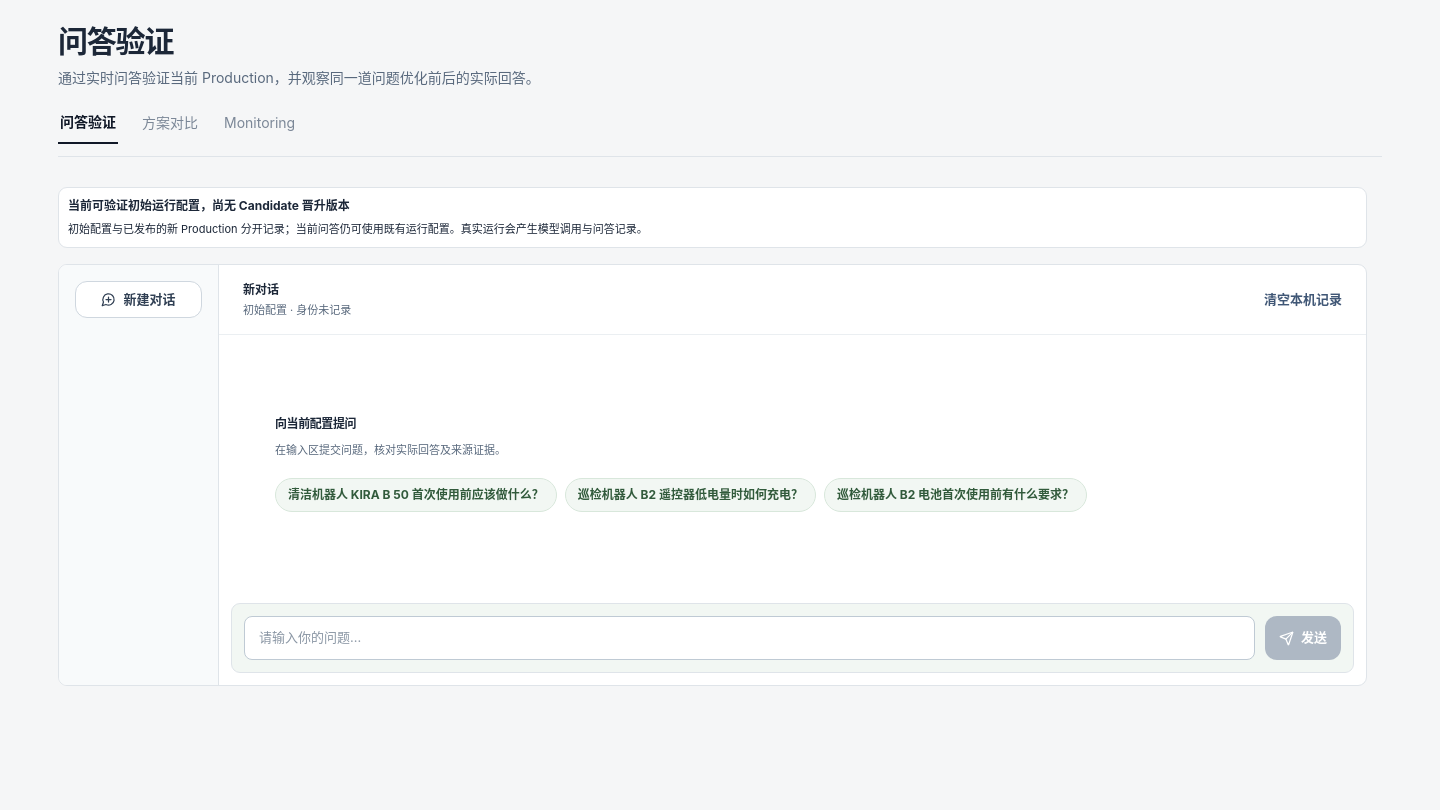
shows the real feedback chain with a compact empty state and no pretend monitoring rows
This screenshot has width=1440, height=810.
Click the button "Monitoring" at (260, 123), box [222,101,297,144]
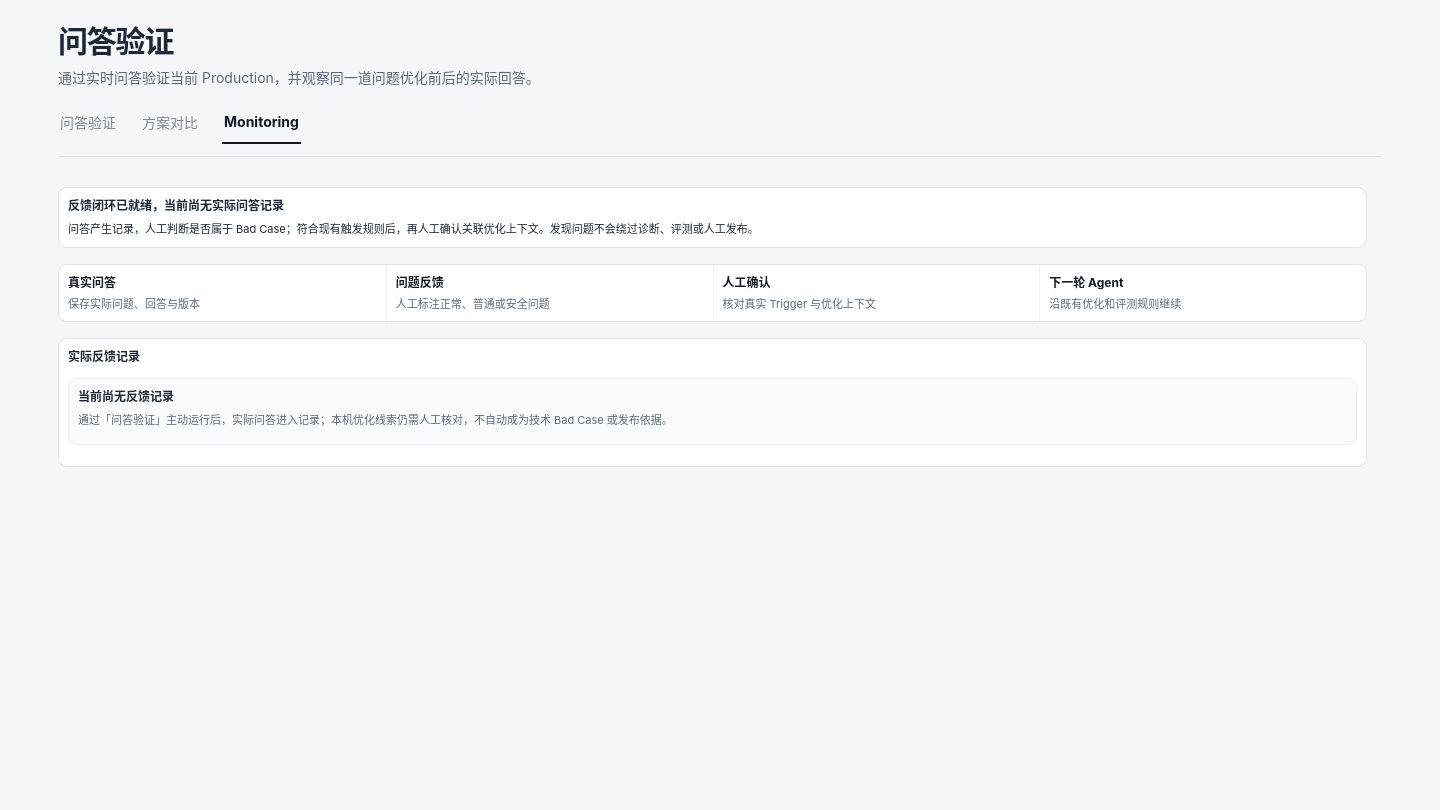
Result: the number of list items is 4 at [68,275,200,311]; [386,265,713,321]; [712,265,1039,321]; [1039,265,1366,321]
Result: the element with class "story-empty" shows "当前尚无反馈记录" at [78,389,174,404]
